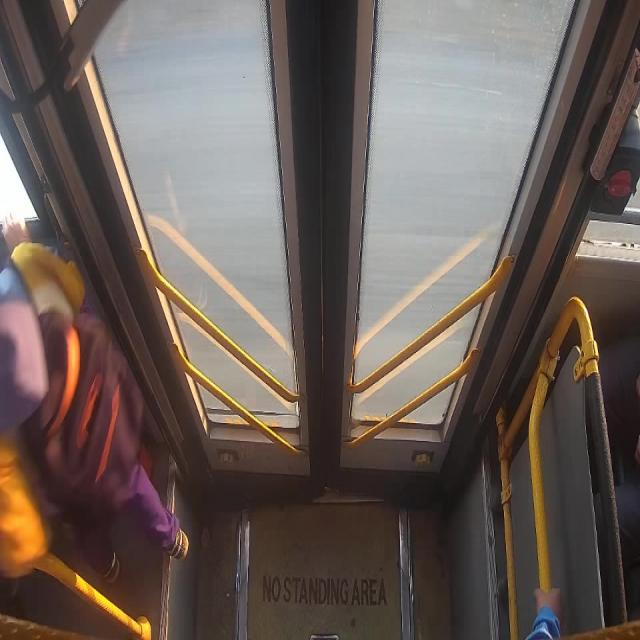close: (78, 1, 580, 487)
